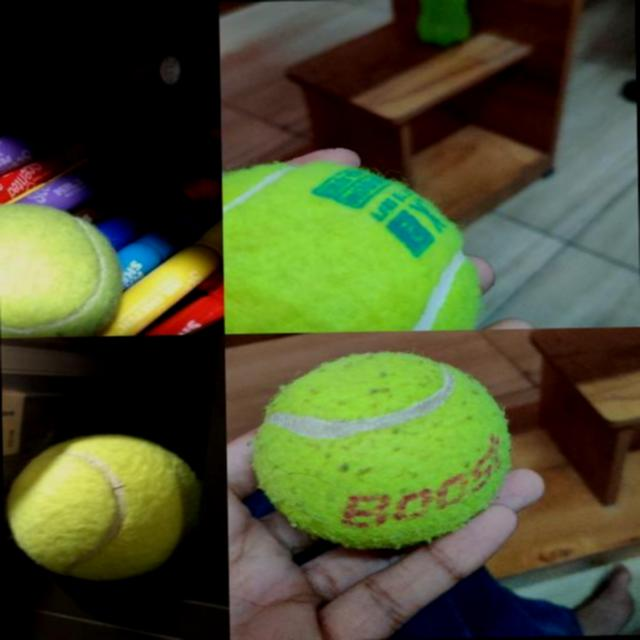tennis-ball: (252, 348, 511, 550), (221, 160, 480, 332), (2, 430, 194, 582), (0, 199, 124, 336)
